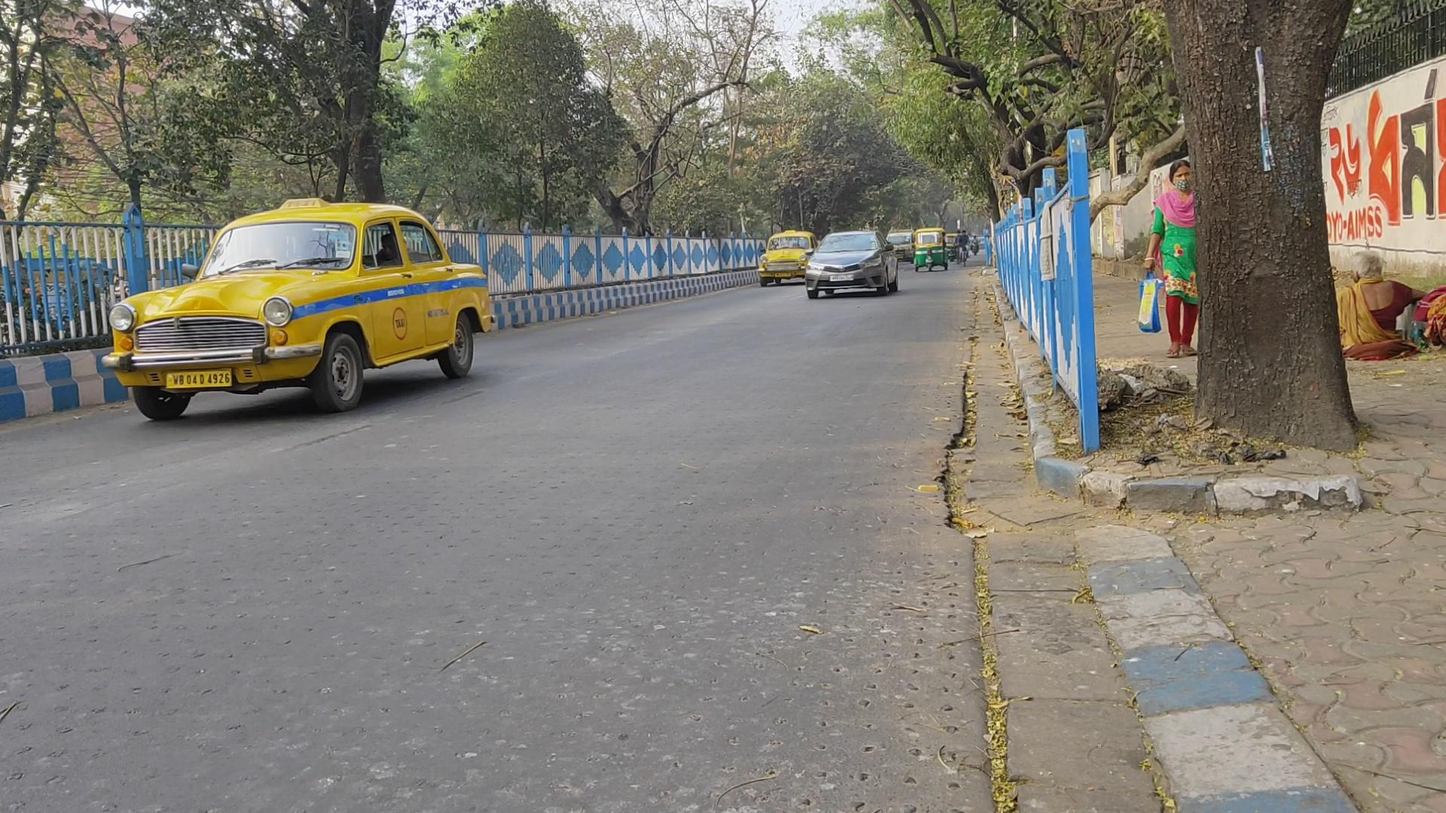Auto: (911, 226, 948, 273)
bike: (959, 230, 970, 266)
car: (105, 196, 497, 422), (804, 230, 899, 300), (757, 229, 818, 286)
